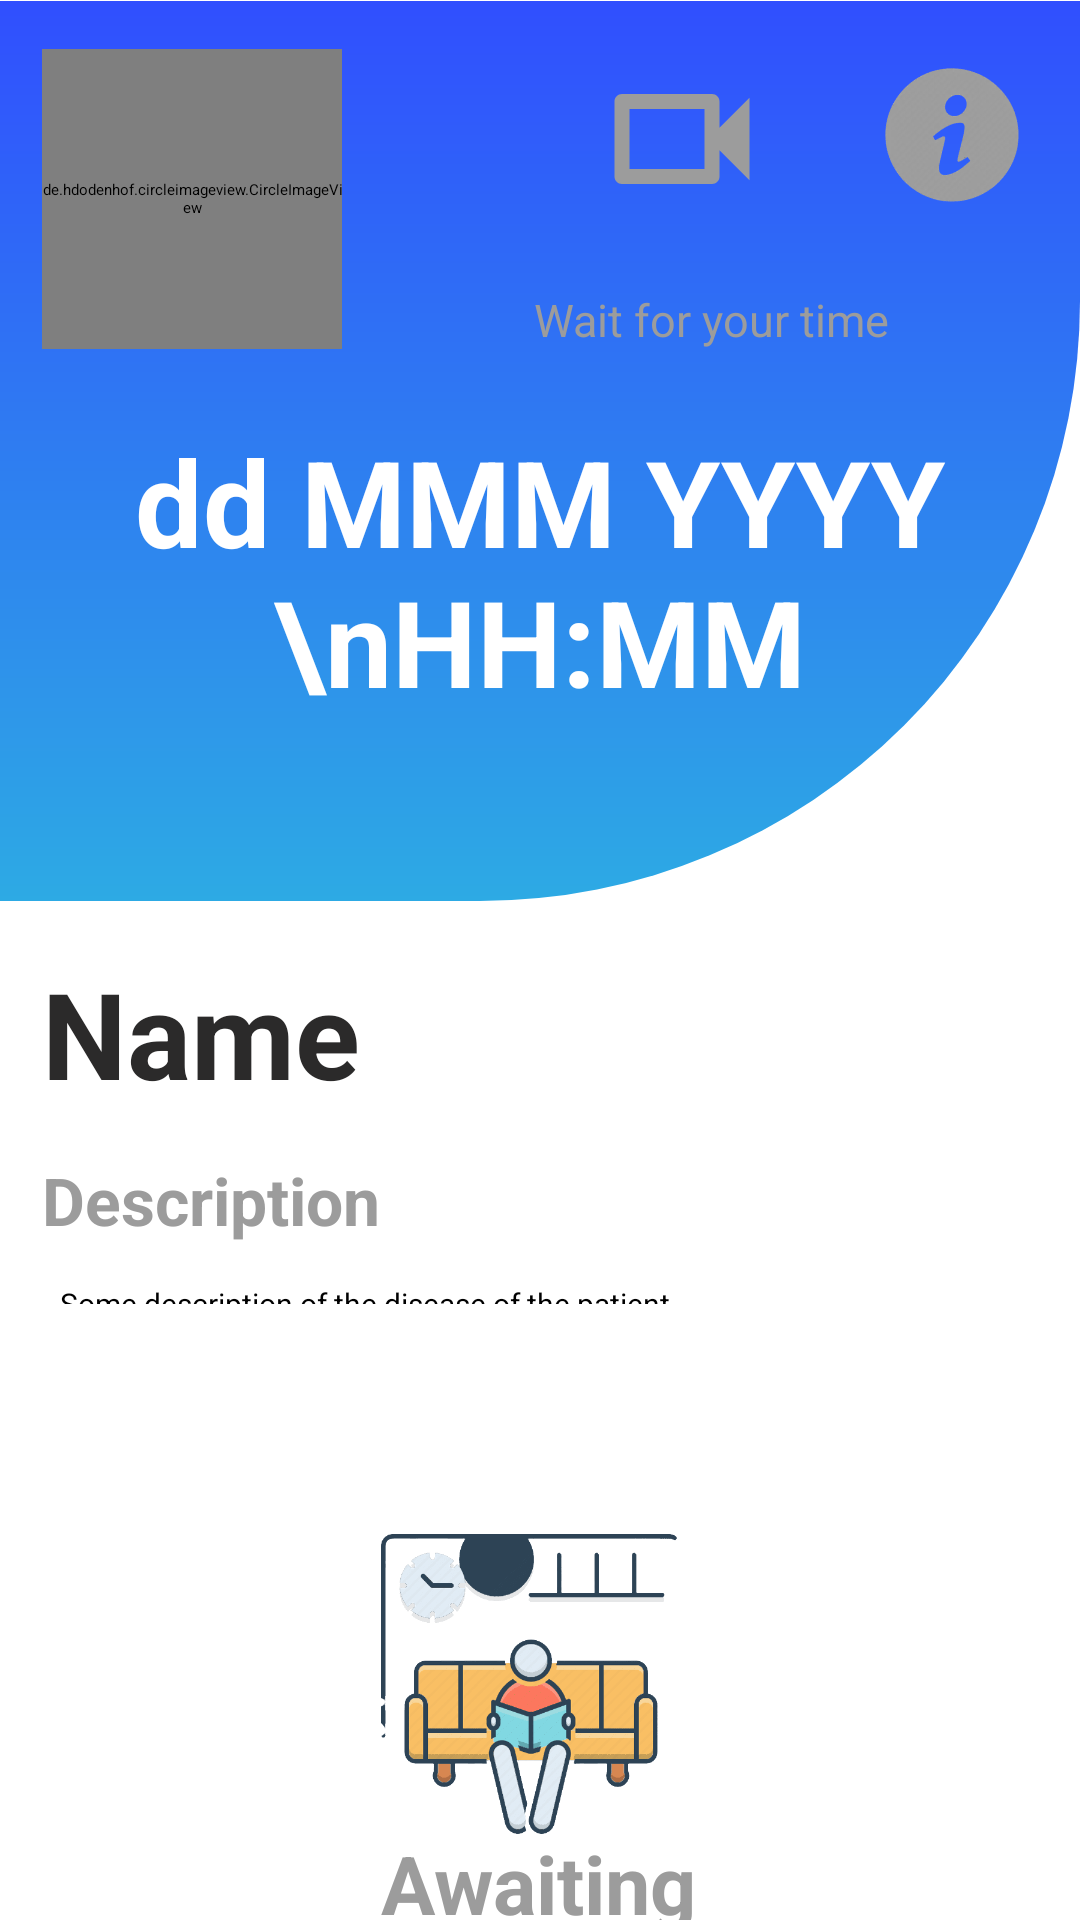

Icon click points for this 1080px x 1920px phone screenshot, format point (x, y):
info: point (952, 135)
videocam: point (682, 139)
